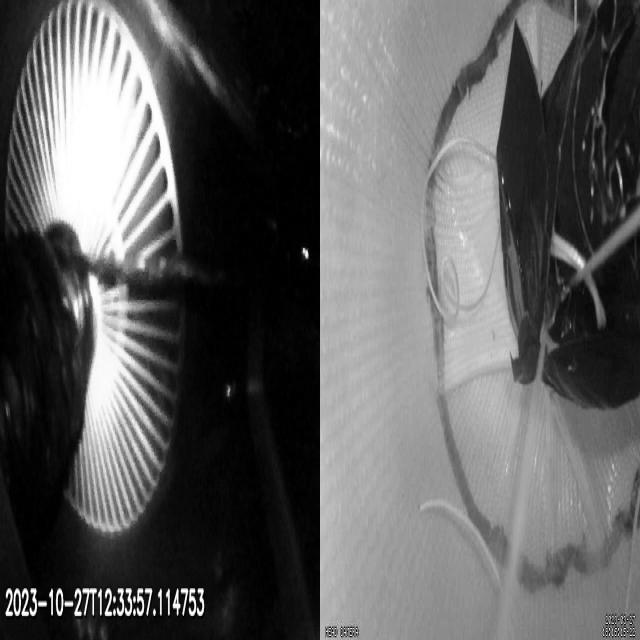red-circle: (426, 0, 640, 592)
